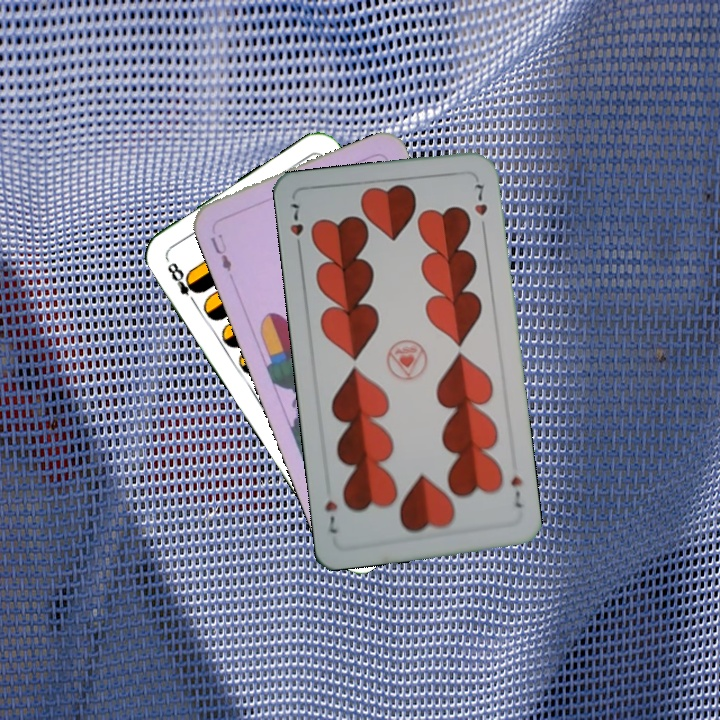E8: (163, 258, 203, 308)
EU: (206, 229, 234, 275)
H7: (285, 199, 306, 255), (506, 472, 525, 511)
